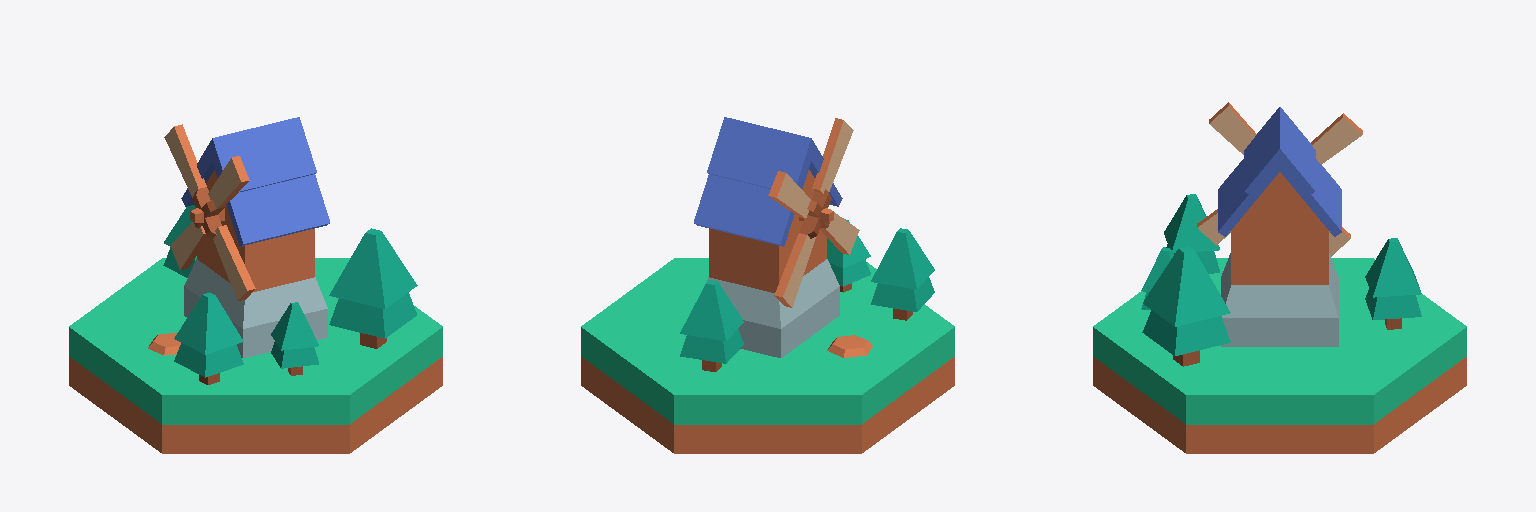
The model's file is building_mill.obj.
3 renders of one model, left to right at view 1: azimuth 30°, elevation 25°; view 2: azimuth 150°, elevation 25°; view 3: azimuth 270°, elevation 25°, orthographic.
Parts seen in each view (by area): view 1: building_mill, building, tree, mill, path; view 2: building_mill, building, tree, mill, path; view 3: building_mill, building, tree, mill.
Boxes of the visible parts, x1=… form: building_mill: x1=69, y1=258, x2=442, y2=453; building: x1=181, y1=117, x2=329, y2=357; tree: x1=163, y1=205, x2=417, y2=384; mill: x1=164, y1=124, x2=255, y2=300; path: x1=148, y1=333, x2=180, y2=355; building_mill: x1=581, y1=258, x2=954, y2=453; building: x1=694, y1=117, x2=842, y2=357; tree: x1=680, y1=218, x2=934, y2=371; mill: x1=768, y1=118, x2=859, y2=307; path: x1=827, y1=335, x2=872, y2=357; building_mill: x1=1093, y1=258, x2=1466, y2=453; building: x1=1218, y1=107, x2=1341, y2=346; tree: x1=1141, y1=194, x2=1421, y2=366; mill: x1=1197, y1=102, x2=1362, y2=256.
Size of the model in its own units: 1 by 0.8811 by 1.15.